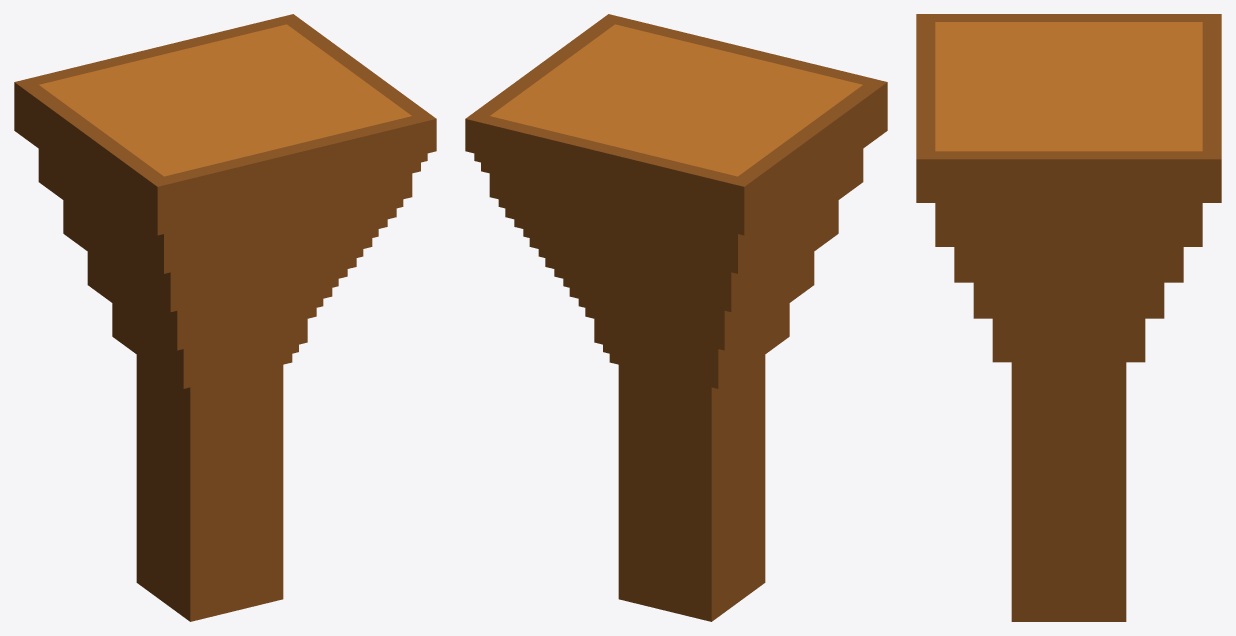
Rendered from medved-4.obj.
The picture shows the model from 3 angles, left to right: view 1: azimuth 30°, elevation 25°; view 2: azimuth 150°, elevation 25°; view 3: azimuth 270°, elevation 25°; orthographic projection. The views are drawn at different scales.
Bounding box in the file's own units: 1.8 × 3 × 1.6.
Materials: 1 (1 with a texture image).
